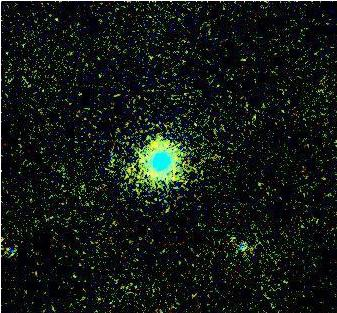star: (136, 129, 166, 159)
